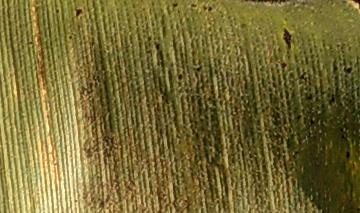tarspot: (281, 26, 294, 49), (239, 1, 295, 6), (268, 108, 282, 126), (330, 58, 340, 75), (327, 92, 336, 108), (73, 7, 86, 18), (298, 71, 309, 84), (341, 64, 354, 74), (303, 91, 314, 102), (350, 1, 360, 12), (343, 149, 352, 161), (279, 60, 288, 72), (307, 115, 316, 126), (293, 113, 302, 124), (154, 41, 162, 51), (159, 94, 166, 104), (170, 1, 179, 8), (189, 2, 198, 9), (176, 72, 183, 81), (54, 7, 62, 14), (207, 5, 214, 13), (67, 34, 74, 41), (201, 4, 208, 11), (355, 204, 360, 213)
